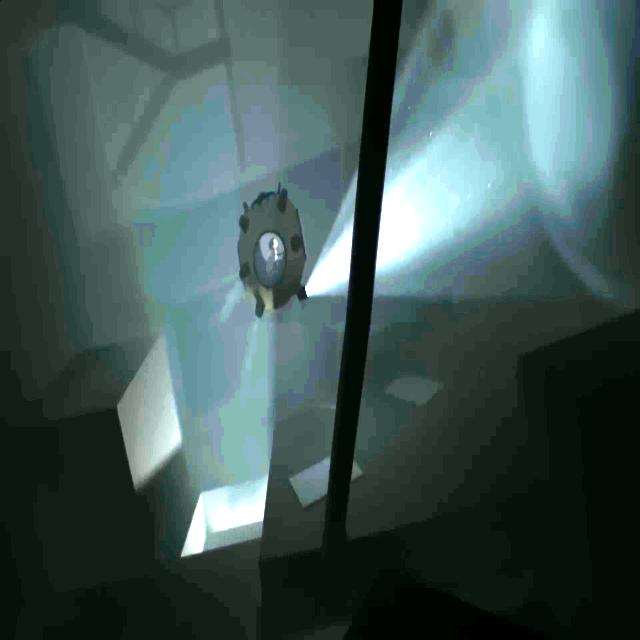boy: (267, 238, 278, 267)
submarine: (237, 182, 310, 320)
